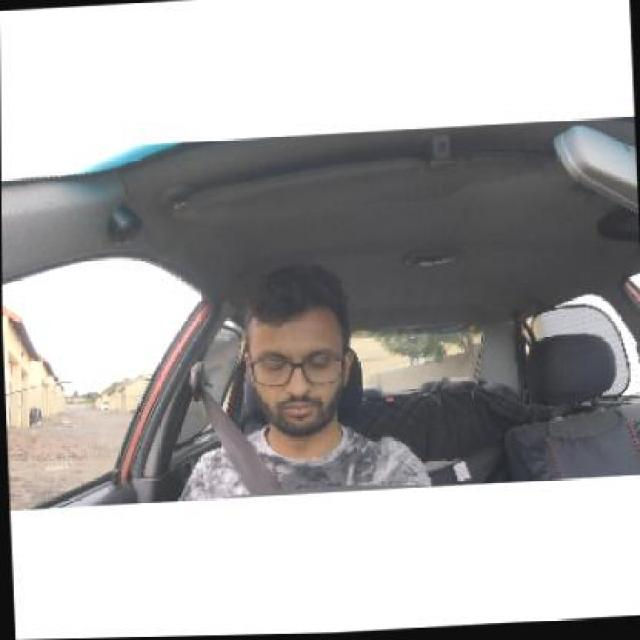drowsy: (238, 252, 356, 431)
